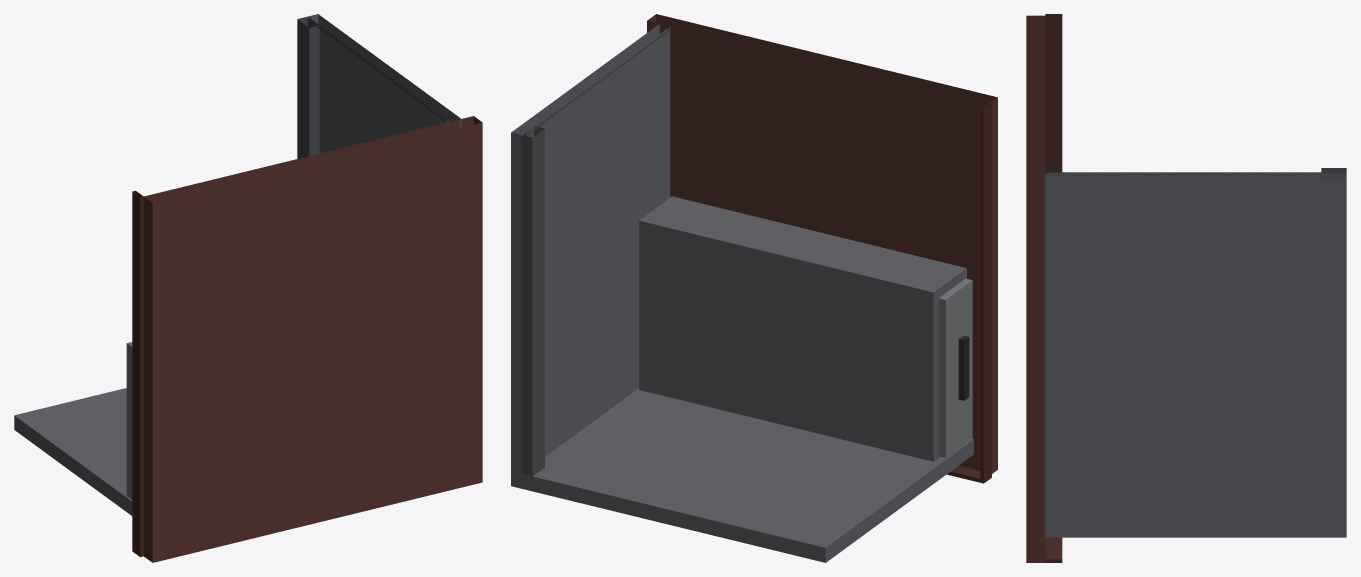
File: section-0.obj
The picture shows the model from 3 angles, left to right: view 1: azimuth 30°, elevation 25°; view 2: azimuth 150°, elevation 25°; view 3: azimuth 270°, elevation 25°; orthographic projection. The views are drawn at different scales.
Size of the model in its own units: 0.96 by 0.99 by 0.76.
Materials: 1 (1 with a texture image).
